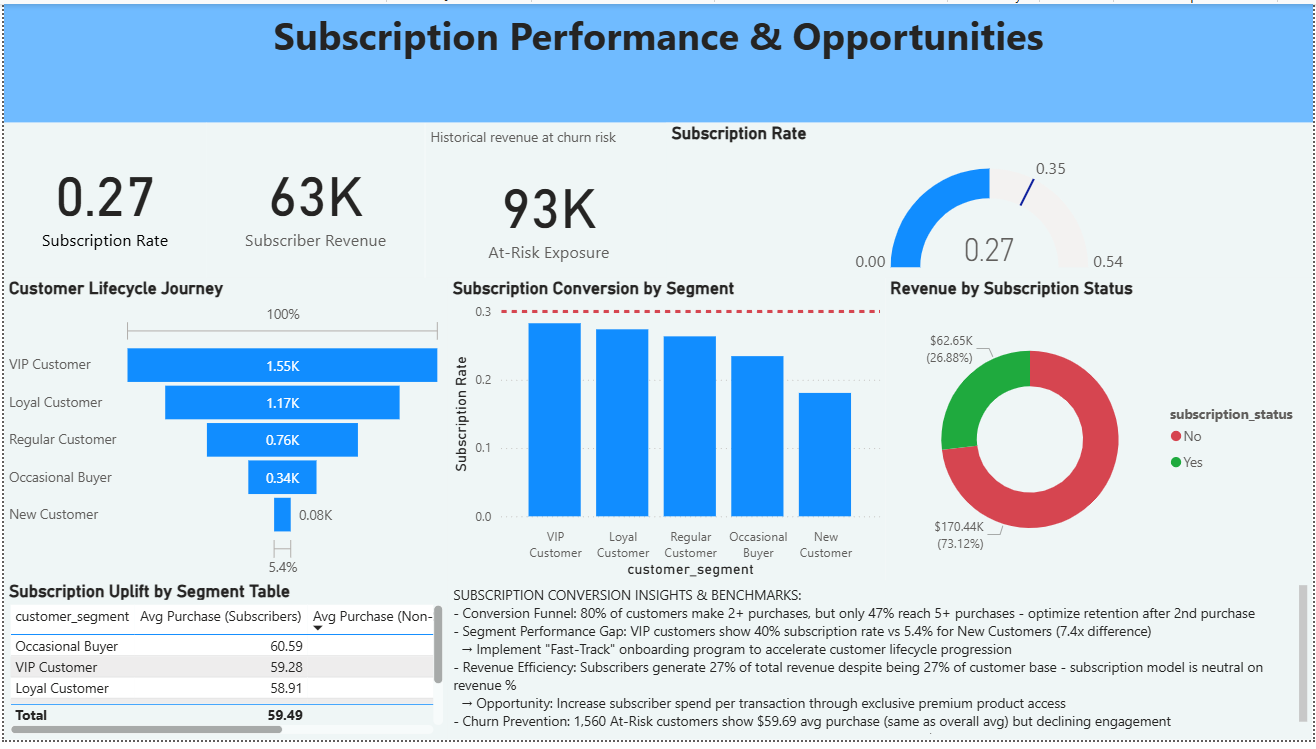

The page's visual inventory and layout, read from the dashboard file:
{"tool":"powerbi","page":{"name":"Subscription Analysis","canvas":[1280,720],"ordinal":3},"visuals":[{"type":"textbox","box":[0,0,1280.5,116.2],"z":0},{"type":"card","fields":{"Values":["customer_enhanced.Subscription Rate"]},"box":[0,116.2,198.1,151.6],"z":1000},{"type":"card","fields":{"Values":["customer_enhanced.Subscriber Revenue"]},"box":[198.1,116.2,214,151.6],"z":2000},{"type":"card","fields":{"Values":["customer_enhanced.At-Risk Revenue"]},"box":[412.1,116.2,242.1,151.6],"z":3000},{"type":"funnel","title":"Customer Lifecycle Journey","fields":{"Category":["customer_enhanced.customer_segment"],"Y":["Count(customer_enhanced.customer_id)"]},"box":[0,267.8,434.1,298.4],"z":4000},{"type":"clusteredColumnChart","title":"Subscription Conversion by Segment","fields":{"Category":["customer_enhanced.customer_segment"],"Y":["customer_enhanced.Subscription Rate"]},"box":[434.1,267.8,428,298.4],"z":5000},{"type":"gauge","fields":{"Y":["customer_enhanced.Subscription Rate"]},"box":[648.1,116.2,632.2,151.6],"z":6000},{"type":"tableEx","title":"Subscription Uplift by Segment Table","fields":{"Values":["customer_enhanced.customer_segment","customer_enhanced.Avg Purchase (Subscribers)","customer_enhanced.Avg Purchase (Non-Subscribers)","Repeat Purchase Rate.Uplift %","Repeat Purchase Rate.Uplift Amount"]},"box":[0,564.3,434.3,155.7],"z":7000},{"type":"donutChart","title":"Revenue by Subscription Status","fields":{"Category":["customer_enhanced.subscription_status"],"Y":["Sum(customer_enhanced.purchase_amount)"]},"box":[862.5,267.5,417.5,297.5],"z":8000},{"type":"textbox","box":[434.3,564.3,845.7,155.7],"z":9000}]}

Visuals, with their boxes in screenshot pixels (x1, y1, x2, y2), scaled from the page's 1280x720 canvas onto the 1316x749 screenshot:
textbox: left=0, top=0, right=1315, bottom=121
card - customer_enhanced.Subscription Rate: left=0, top=121, right=204, bottom=279
card - customer_enhanced.Subscriber Revenue: left=204, top=121, right=424, bottom=279
card - customer_enhanced.At-Risk Revenue: left=424, top=121, right=673, bottom=279
"Customer Lifecycle Journey" funnel: left=0, top=279, right=446, bottom=589
"Subscription Conversion by Segment" clusteredColumnChart: left=446, top=279, right=886, bottom=589
gauge - customer_enhanced.Subscription Rate: left=666, top=121, right=1315, bottom=279
"Subscription Uplift by Segment Table" tableEx: left=0, top=587, right=447, bottom=748
"Revenue by Subscription Status" donutChart: left=887, top=278, right=1315, bottom=588
textbox: left=447, top=587, right=1315, bottom=748
